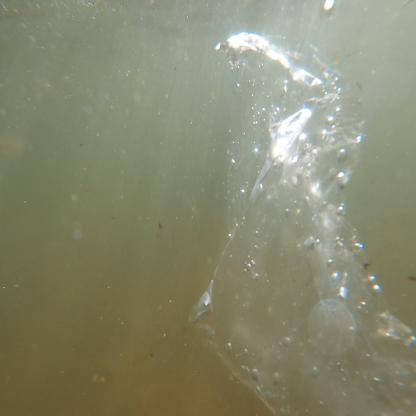Rác: (181, 145, 402, 416)
